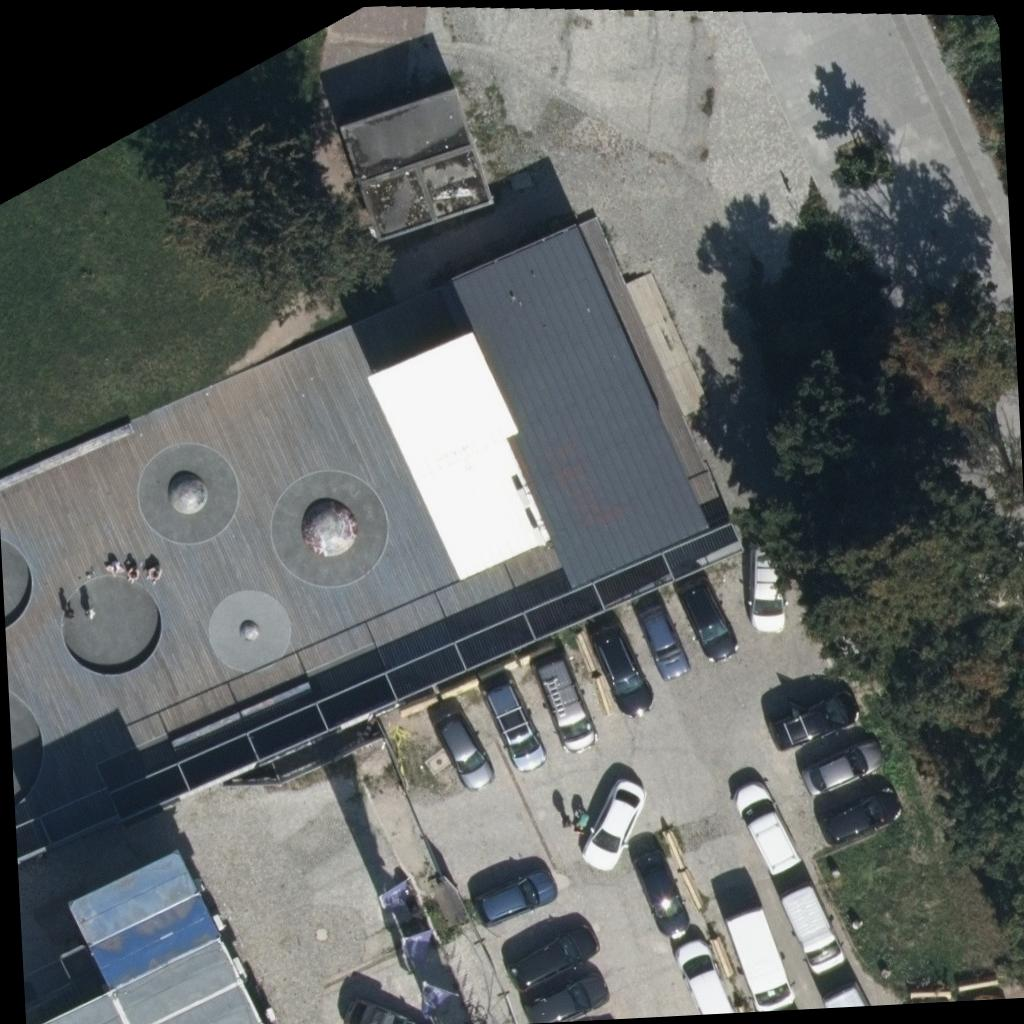pracownik: (146, 560, 161, 582), (128, 568, 138, 582)
samochod_osobowy: (531, 641, 598, 754), (728, 905, 793, 1012), (588, 613, 654, 718), (505, 921, 601, 993), (482, 668, 546, 774), (734, 780, 802, 876), (630, 832, 690, 940), (578, 778, 647, 870), (781, 884, 846, 976), (676, 572, 738, 664), (770, 690, 860, 750), (632, 590, 690, 682), (521, 964, 610, 1023), (801, 735, 884, 796), (822, 781, 902, 844), (434, 706, 492, 792), (674, 932, 734, 1015), (470, 870, 558, 926), (744, 546, 786, 633), (343, 996, 417, 1024)
